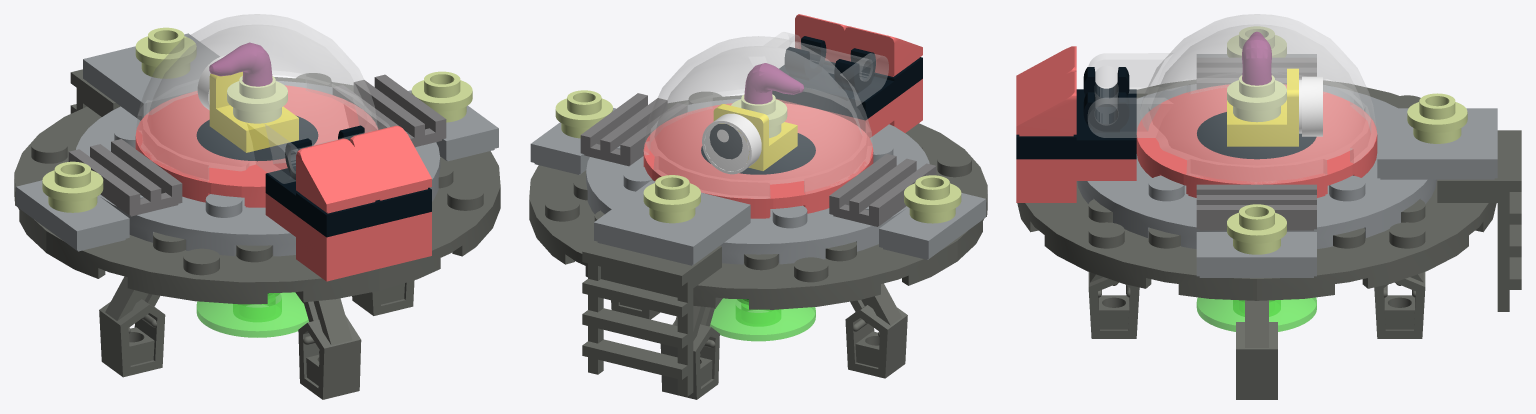
Rendered from LegoUfo.glb.
The picture shows the model from 3 angles, left to right: view 1: azimuth 30°, elevation 25°; view 2: azimuth 150°, elevation 25°; view 3: azimuth 270°, elevation 25°; orthographic projection. The views are drawn at different scales.
Visible parts, largest first — view 1: LegoUfo; view 2: LegoUfo; view 3: LegoUfo.
Part boxes in pixels (x1,y1,x2,y2): LegoUfo: (14, 14, 500, 399); LegoUfo: (529, 14, 987, 399); LegoUfo: (1016, 14, 1521, 399).
Bounding box in the file's own units: 160 × 112 × 168.
